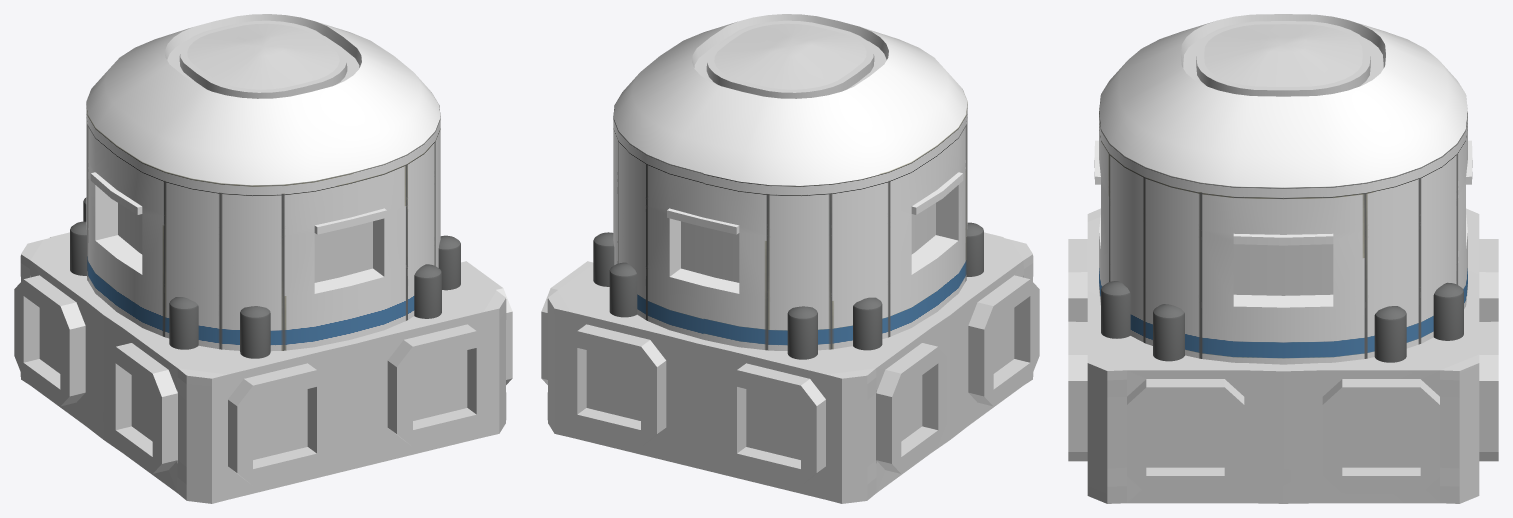
File: furnace.fbx
3 renders of one model, left to right at view 1: azimuth 30°, elevation 25°; view 2: azimuth 150°, elevation 25°; view 3: azimuth 270°, elevation 25°, orthographic. The views are drawn at different scales.
Parts seen in each view (by area): view 1: Cylinder, Cube.001, Light; view 2: Cylinder, Cube.001, Light; view 3: Cylinder, Cube.001, Light.
Boxes of the visible parts, box(x1,y1,x2,y2) form: Cylinder: box(70, 14, 460, 358); Cube.001: box(14, 232, 512, 503); Light: box(118, 20, 372, 282); Cylinder: box(593, 14, 983, 359); Cube.001: box(541, 232, 1039, 503); Light: box(681, 20, 935, 282); Cylinder: box(1094, 14, 1472, 364); Cube.001: box(1068, 208, 1498, 503); Light: box(1183, 21, 1383, 295).
Size of the model in its own units: 220 by 212 by 220.
1 material, 1 textured.
